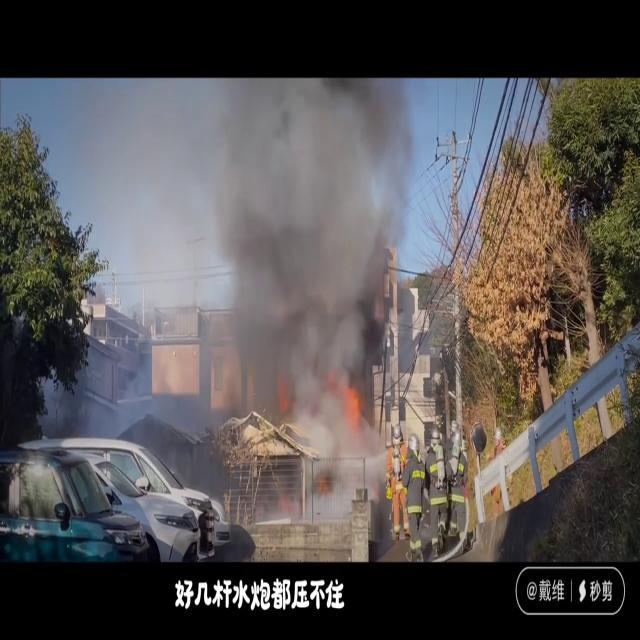Smoke: (112, 78, 406, 490)
